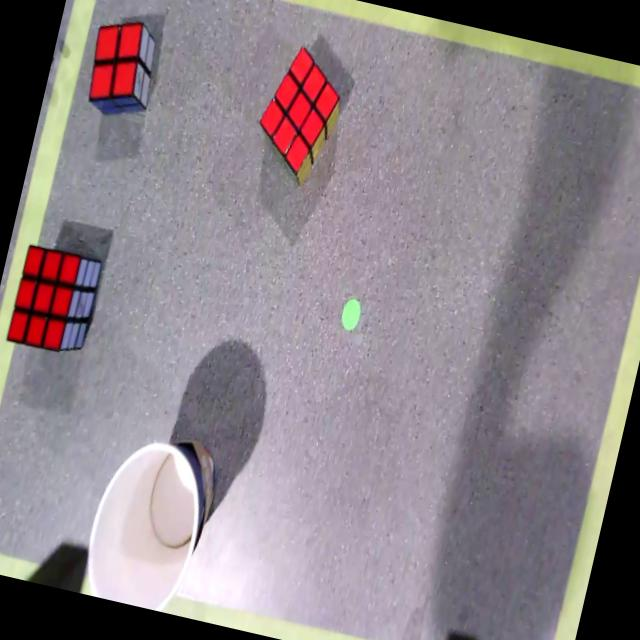cube2-red: (89, 22, 142, 99)
cube3-red: (260, 44, 338, 173), (6, 244, 80, 352)
